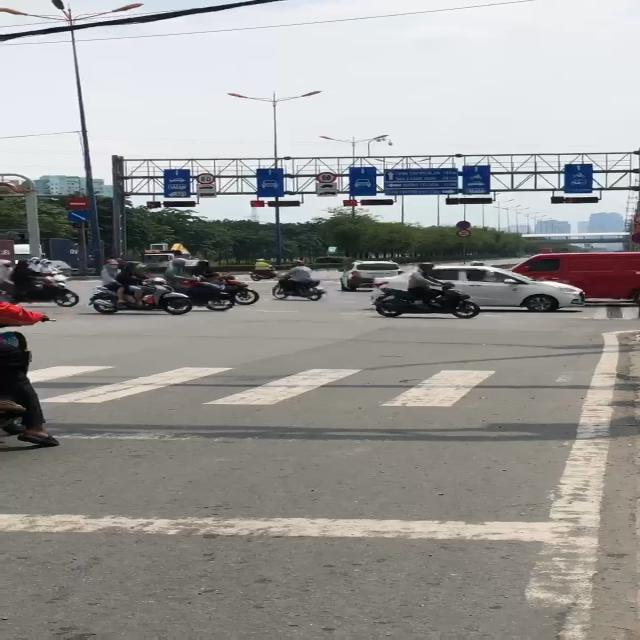Bien bao cam di nguoc chieu: (67, 197, 92, 209)
Bien bao huong phai di vong chuong ngai vat: (67, 210, 90, 222)
Bien bao toc do toi da cho phep: (315, 171, 337, 185), (196, 172, 216, 184)
